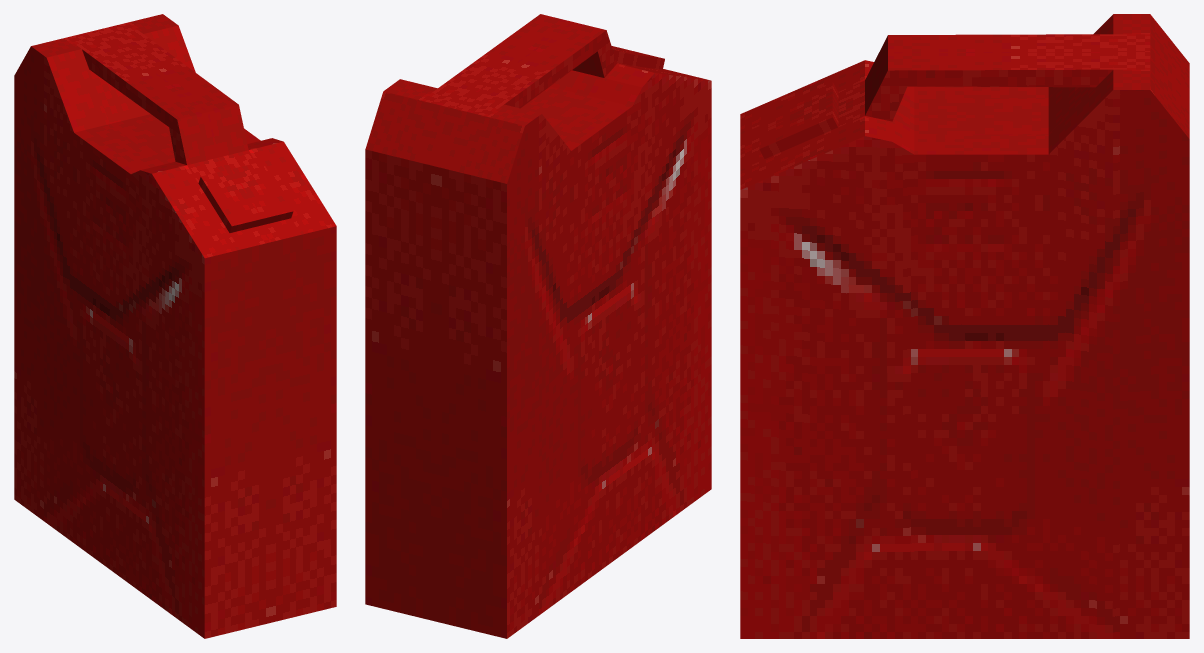
Rendered from jerrycan.glb.
The picture shows the model from 3 angles, left to right: view 1: azimuth 30°, elevation 25°; view 2: azimuth 150°, elevation 25°; view 3: azimuth 270°, elevation 25°; orthographic projection. The views are drawn at different scales.
Parts seen in each view (by area): view 1: Jerrycan; view 2: Jerrycan; view 3: Jerrycan.
Boxes of the visible parts, x1,y1,x2,y2 form: Jerrycan: [14, 14, 336, 638]; Jerrycan: [365, 14, 711, 638]; Jerrycan: [740, 14, 1189, 638].
Bounding box in the file's own units: 0.136 × 0.4585 × 0.34.
Materials: 1 (1 with a texture image).
